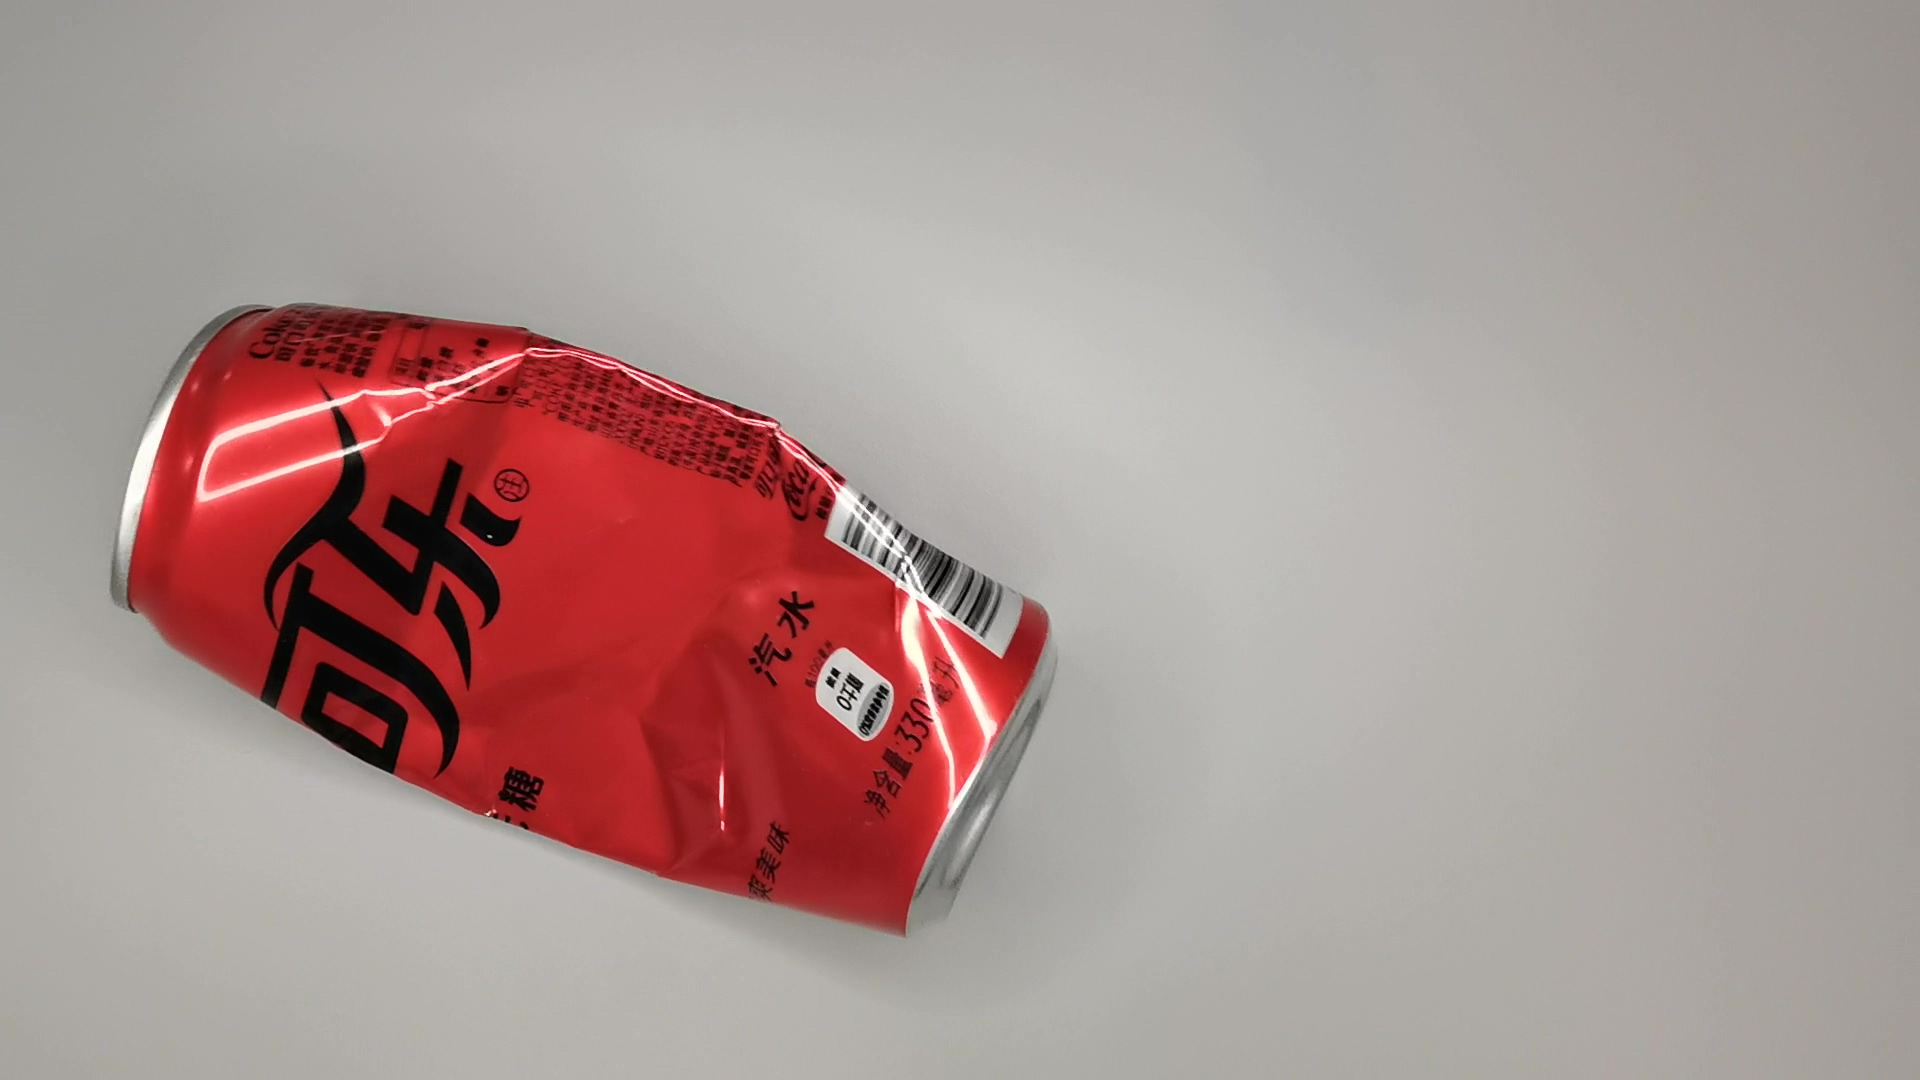can: (98, 291, 1073, 945)
